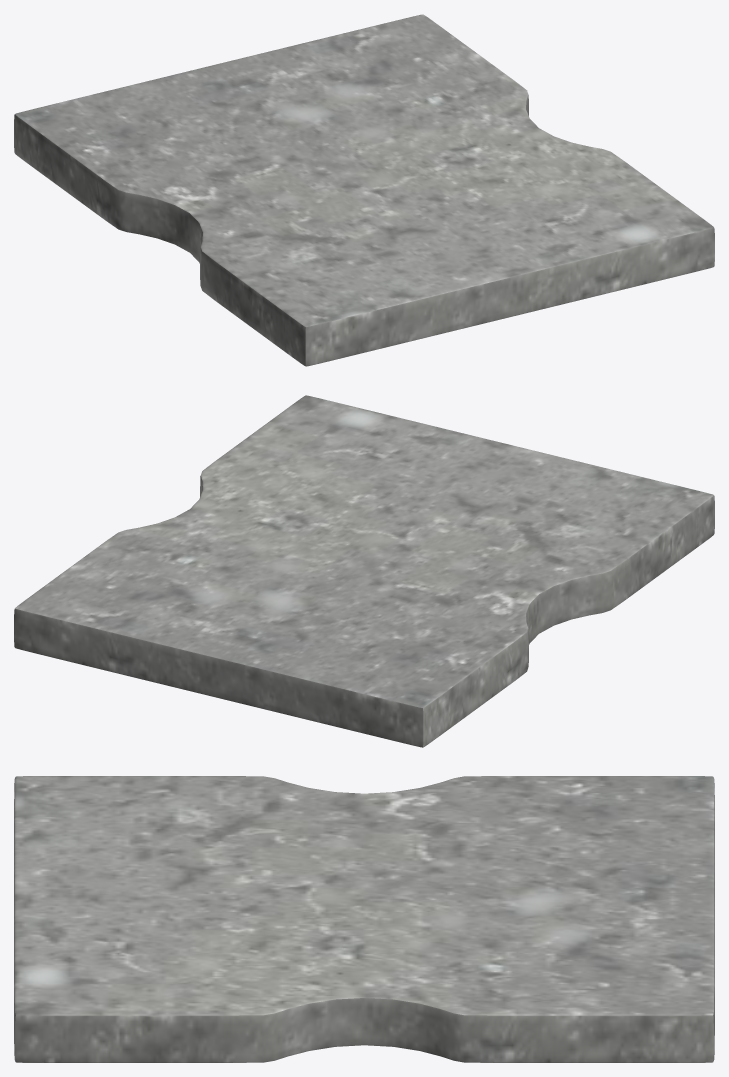
The model's file is sink-cover-two.glb.
3 views of the same model, one above another, from view 1: azimuth 30°, elevation 25°; view 2: azimuth 150°, elevation 25°; view 3: azimuth 270°, elevation 25° (orthographic). The views are drawn at different scales.
Parts seen in each view (by area): view 1: Cube.013; view 2: Cube.013; view 3: Cube.013.
Boxes of the visible parts, x1=… form: Cube.013: x1=14, y1=14, x2=714, y2=366; Cube.013: x1=14, y1=395, x2=714, y2=747; Cube.013: x1=14, y1=776, x2=714, y2=1062.
Size of the model in its own units: 0.2743 by 0.026 by 0.3385.
Materials: 1 (1 with a texture image).
